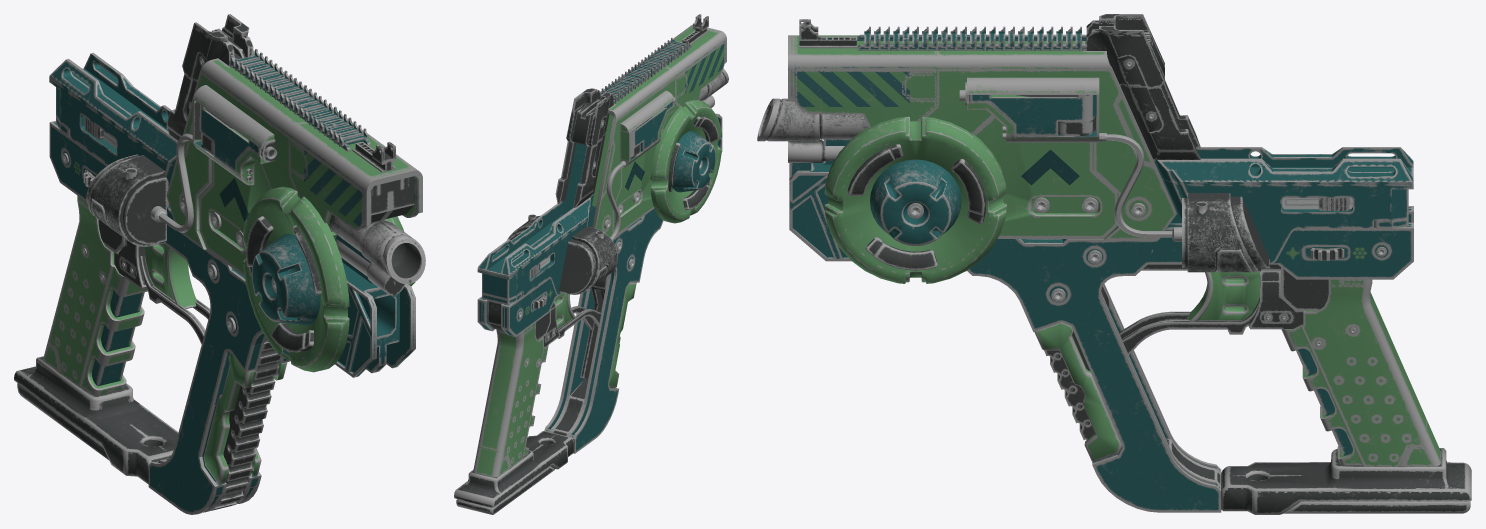
The model's file is w_pistol__sci-fi-pistol.glb.
The picture shows the model from 3 angles, left to right: view 1: azimuth 30°, elevation 25°; view 2: azimuth 150°, elevation 25°; view 3: azimuth 270°, elevation 25°; orthographic projection. The views are drawn at different scales.
Parts seen in each view (by area): view 1: Cube.071, Cube.086, Cube.065, Cylinder.019; view 2: Cube.065, Cube.071, Cube.086, Cylinder.019; view 3: Cube.071, Cube.065, Cube.086, Cylinder.019.
Part boxes in pixels (<box>): Cube.071: <box>43,14,425,484</box>; Cube.086: <box>14,50,422,484</box>; Cube.065: <box>49,49,370,514</box>; Cylinder.019: <box>140,186,415,510</box>; Cube.065: <box>477,37,702,453</box>; Cube.071: <box>473,14,728,477</box>; Cube.086: <box>454,24,726,514</box>; Cylinder.019: <box>487,95,721,436</box>; Cube.071: <box>757,14,1440,466</box>; Cube.065: <box>857,26,1413,512</box>; Cube.086: <box>788,35,1471,514</box>; Cylinder.019: <box>788,116,1280,485</box>.
Bounding box in the file's own units: 145 × 483 × 653.
Materials: 4 (4 with a texture image).
